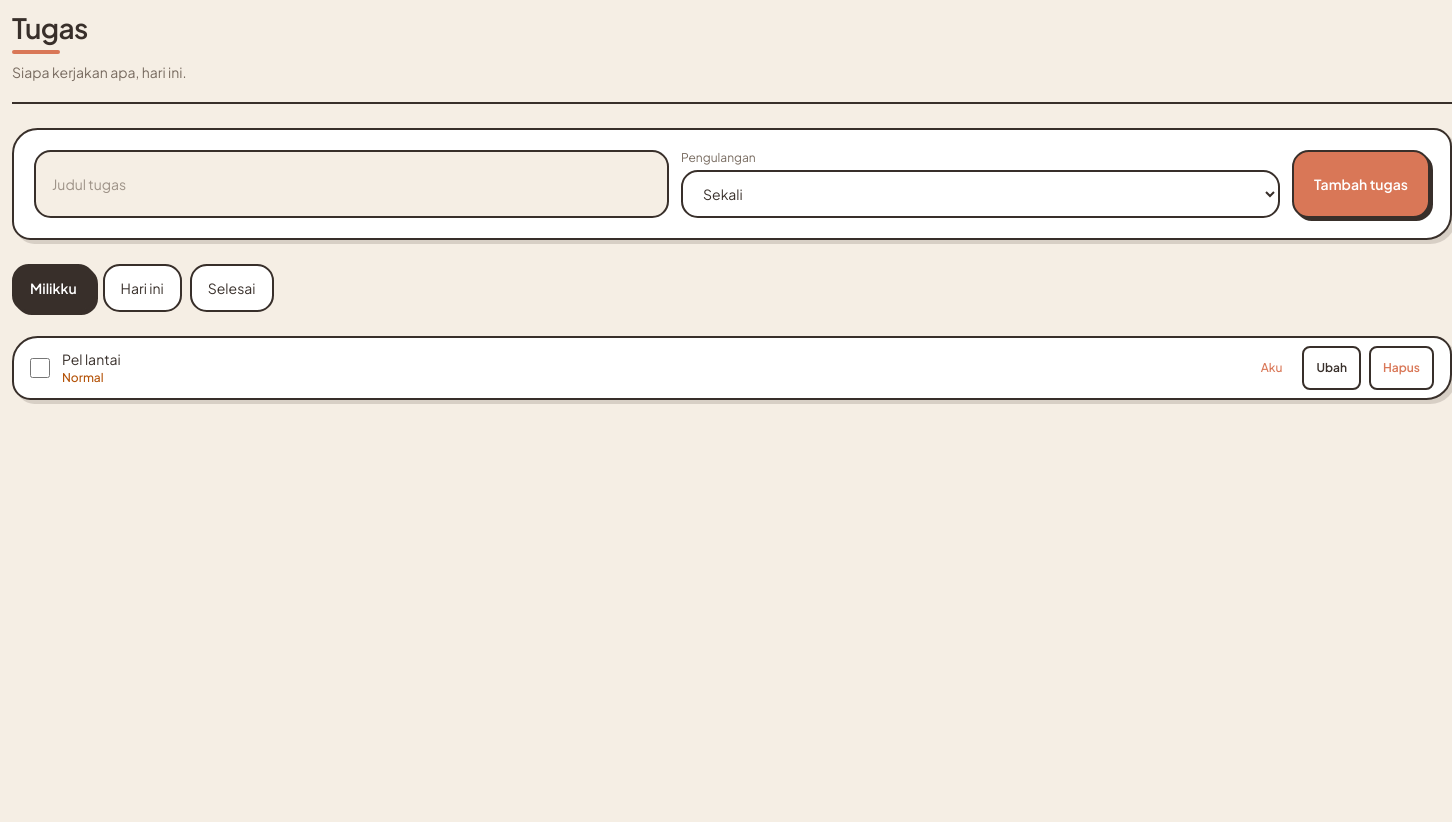
it: edit inline = PATCH terpanggil + judul berubah
Expected: the text "Pel lantai" is shown, [62,350,121,368]
Click the button "Ubah": (1332, 368) [1302,346,1361,390]
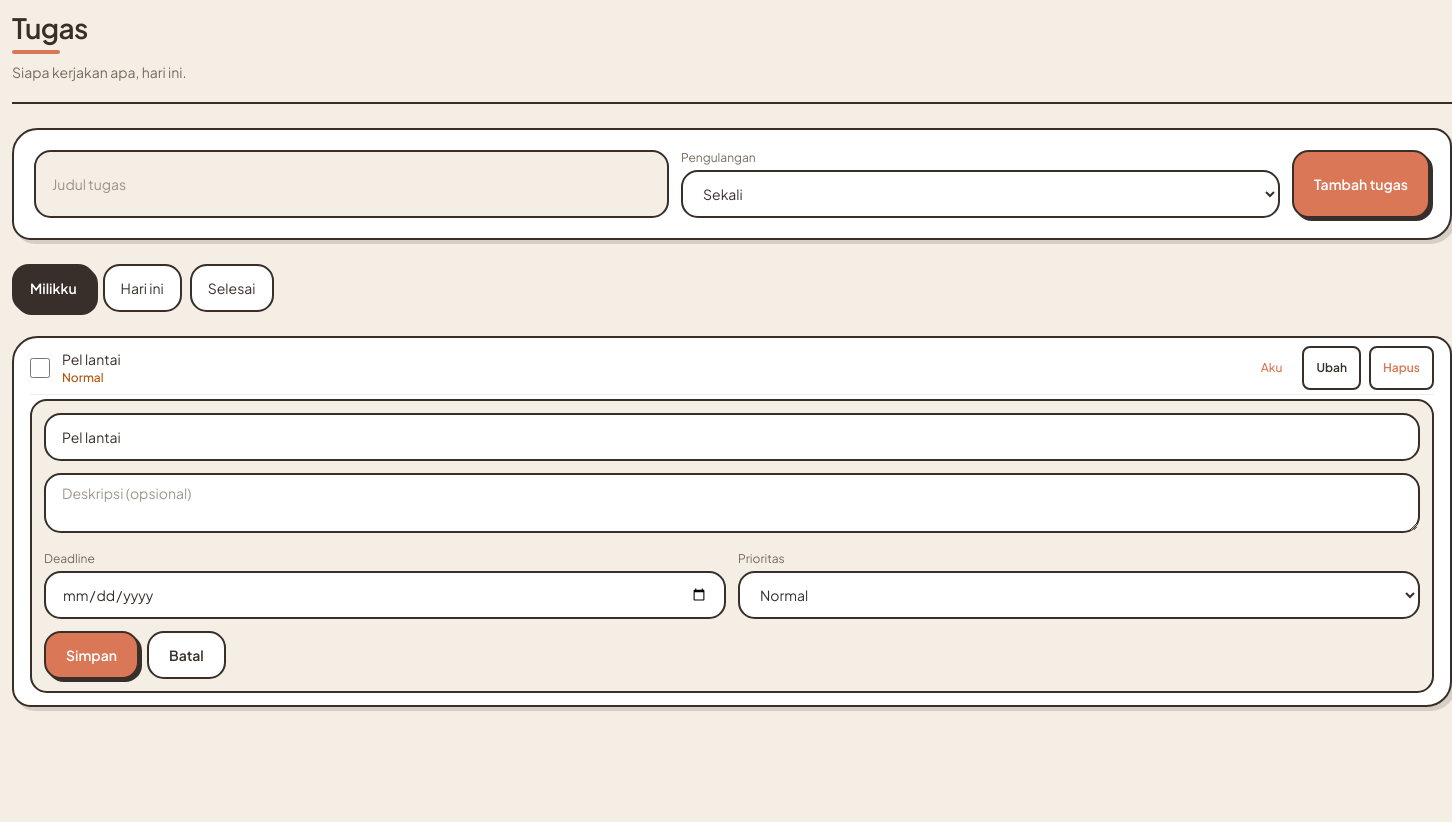
Now the field named "Judul" holds "Pel lantai"
Replace the text in the field named "Judul" with "Pel lantai bersih": (732, 437) [44,413,1420,461]
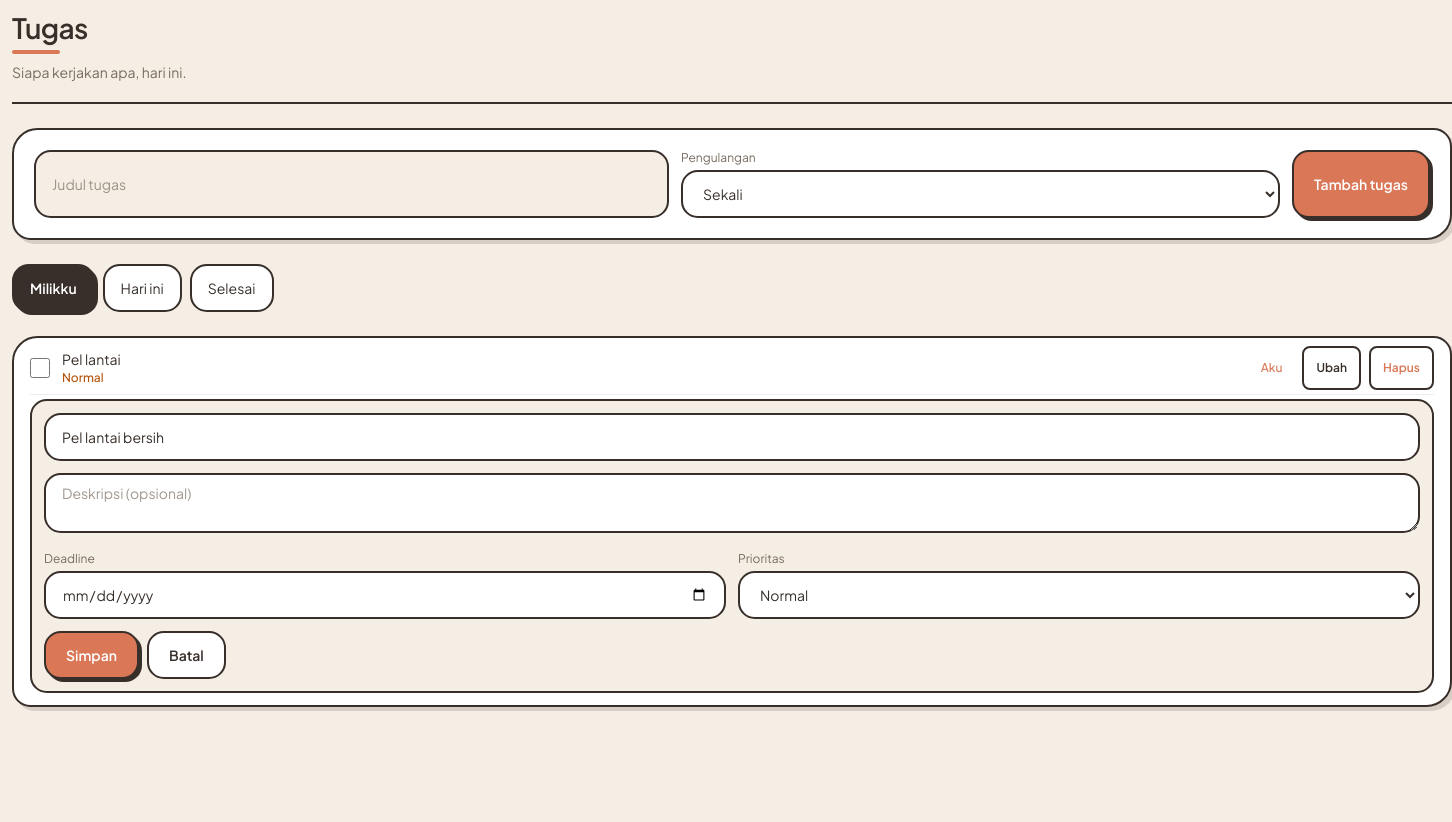
Click the button "Simpan": (92, 655) [44,631,139,679]
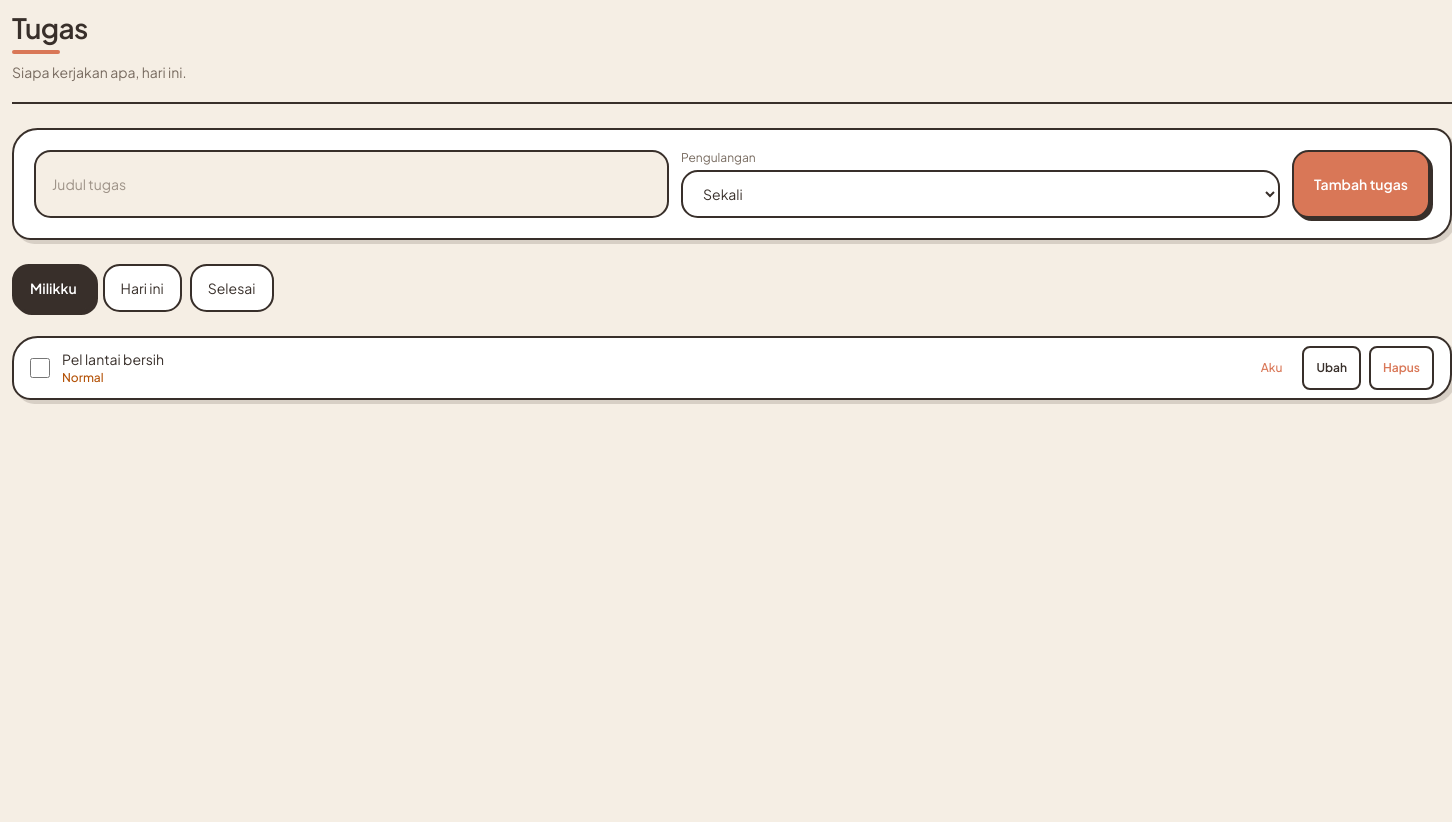
Now the text "Pel lantai bersih" is shown, box [62,350,164,368]
